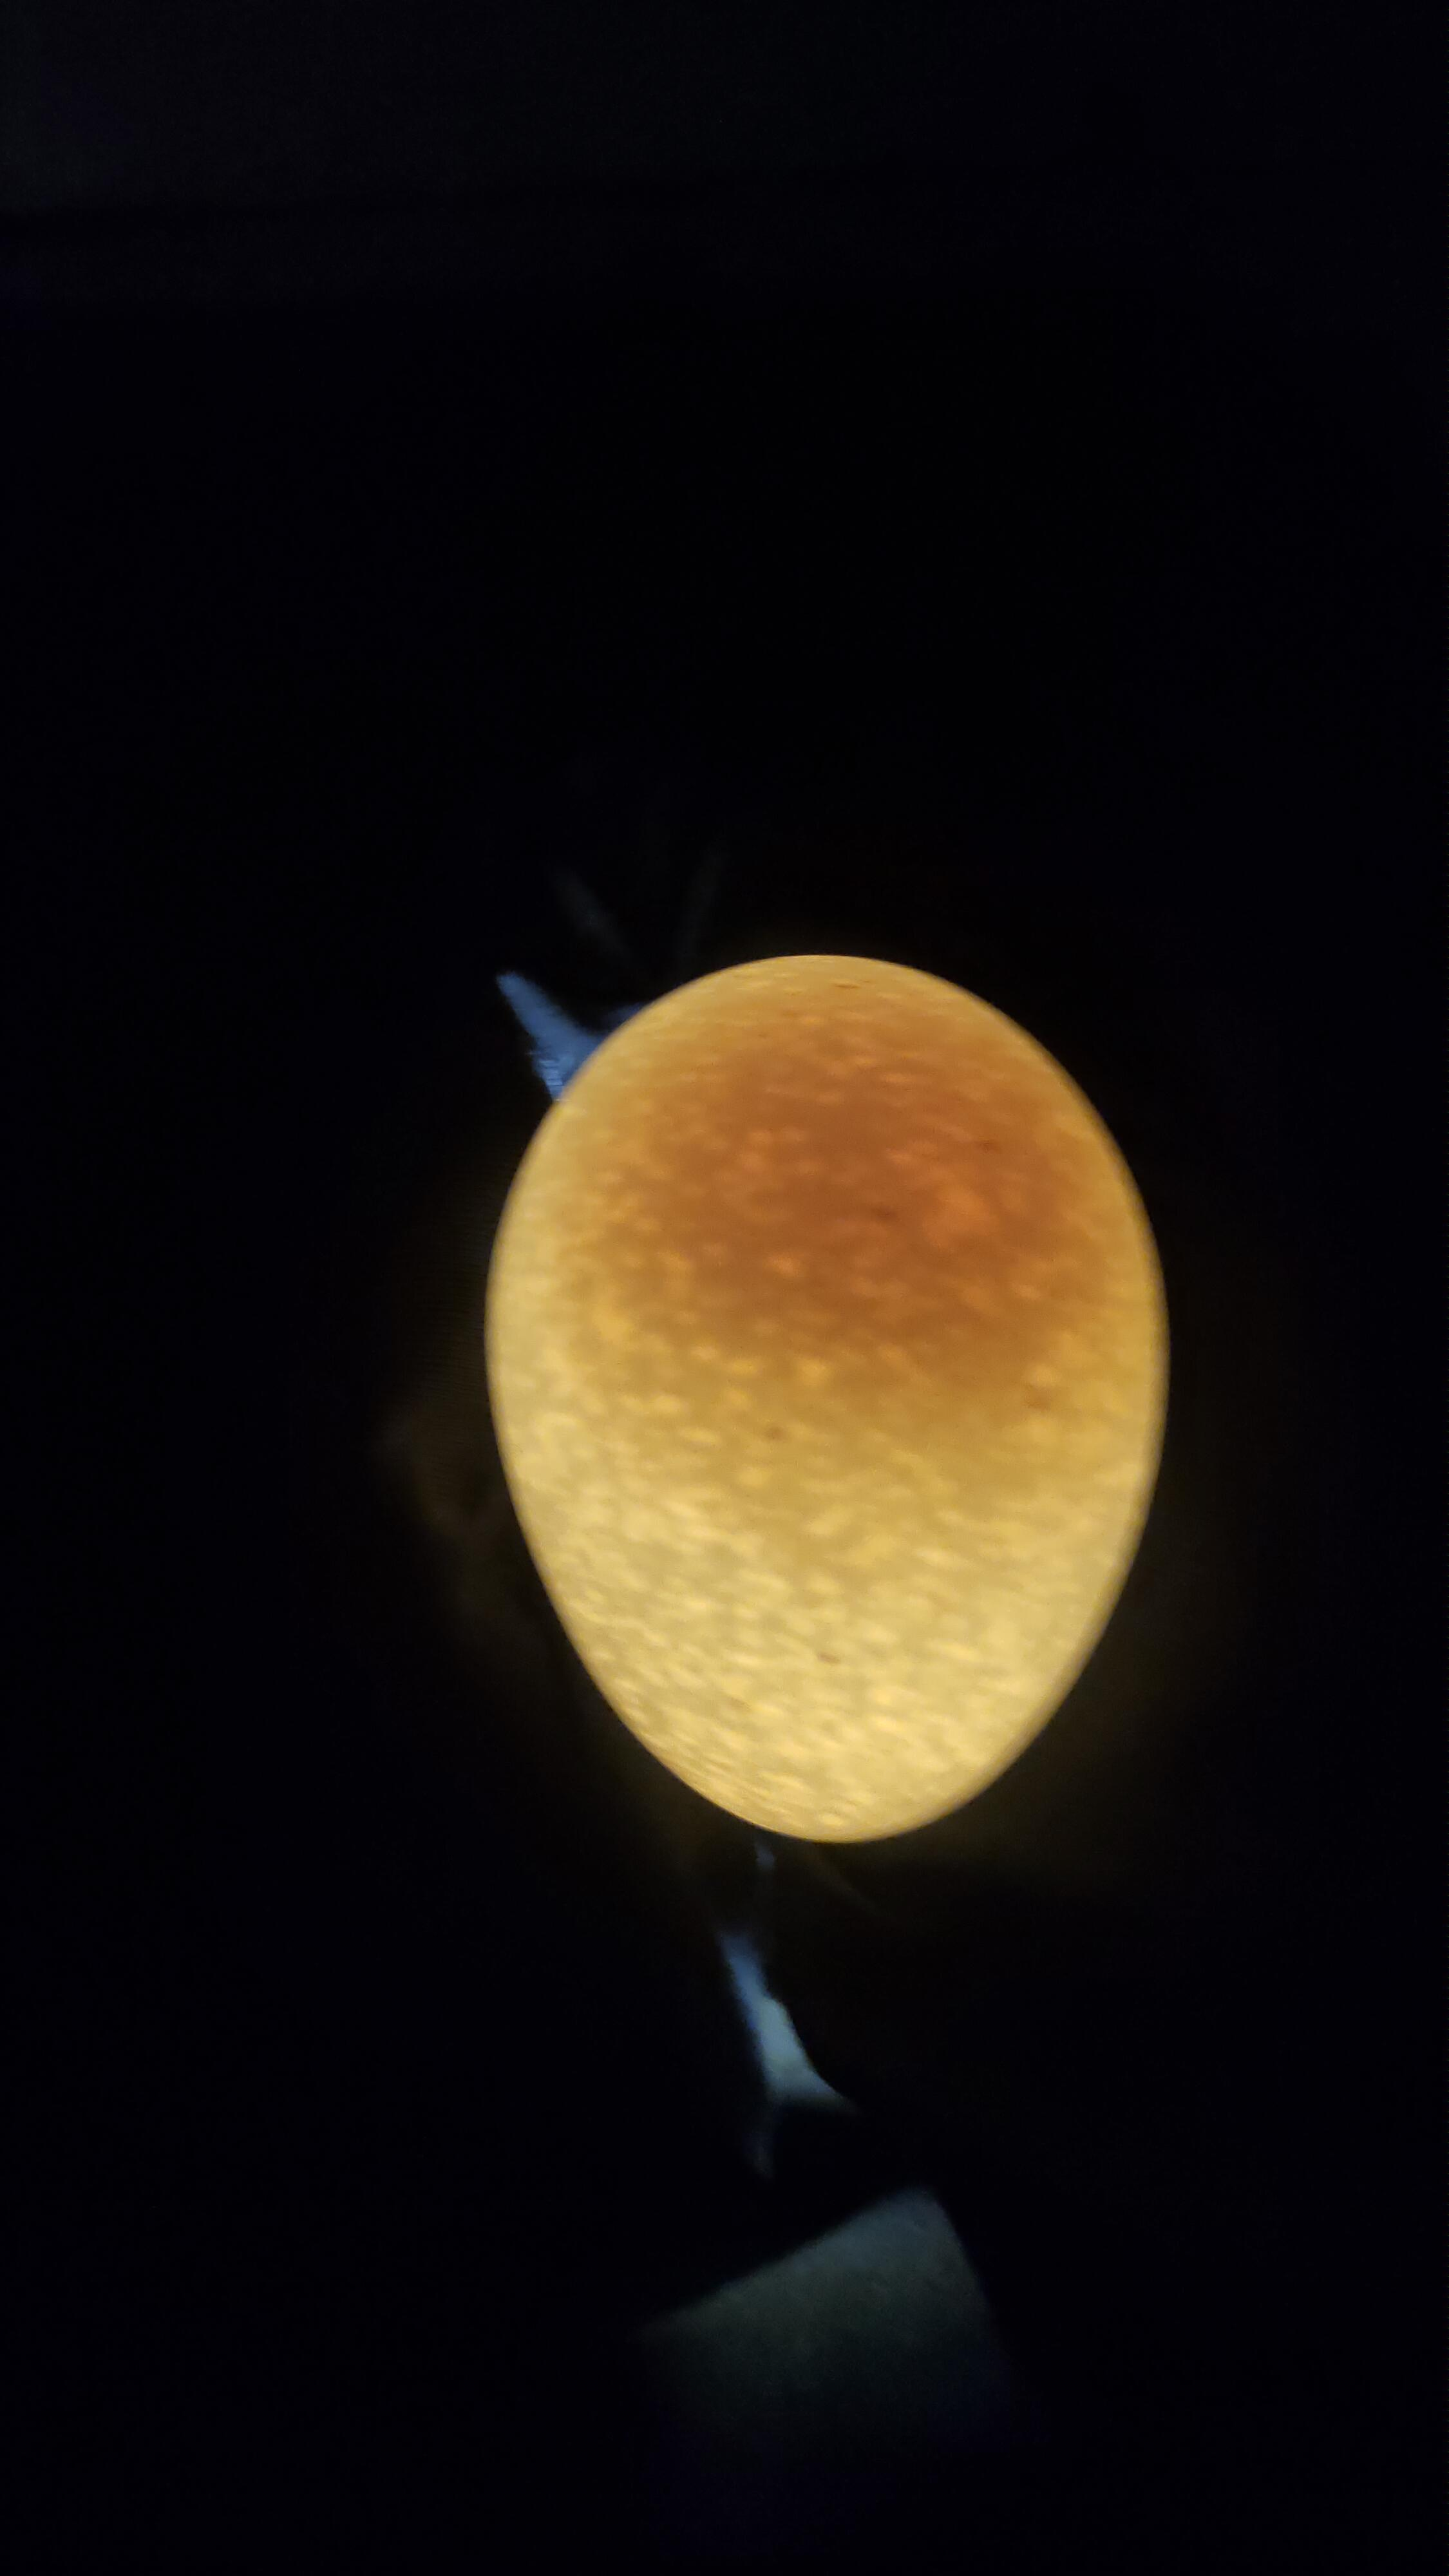Inedible: (501, 978, 1123, 1801)
